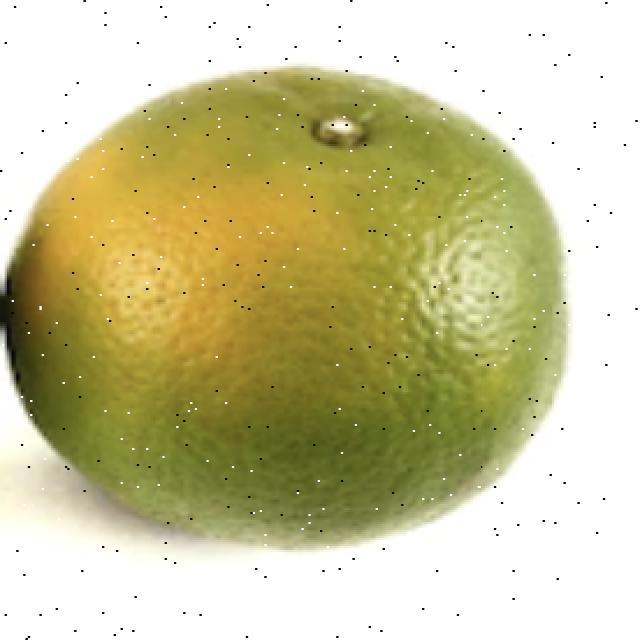Orange: (3, 66, 569, 550)
